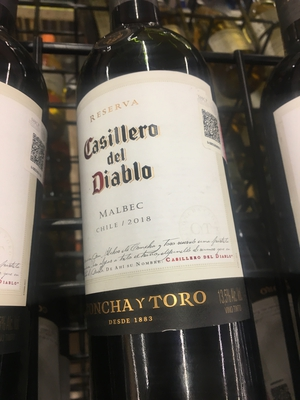casillero del diablo malbec: (71, 21, 264, 394)
